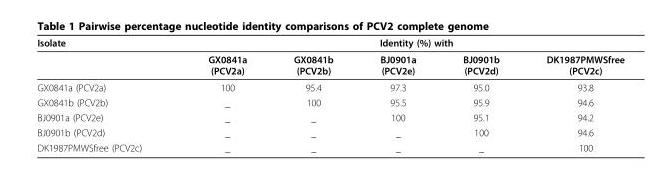table: (36, 36, 623, 152)
table column: (36, 36, 174, 152), (522, 36, 623, 152), (174, 36, 269, 152), (269, 36, 356, 152), (438, 36, 522, 152), (356, 36, 438, 152)
table column header: (36, 36, 623, 78)
table row: (36, 50, 623, 78), (36, 78, 623, 94), (36, 94, 623, 109), (36, 109, 623, 124), (36, 124, 623, 139), (36, 36, 623, 50), (36, 139, 623, 152)
table spanning cell: (174, 36, 623, 50), (36, 36, 174, 78)
